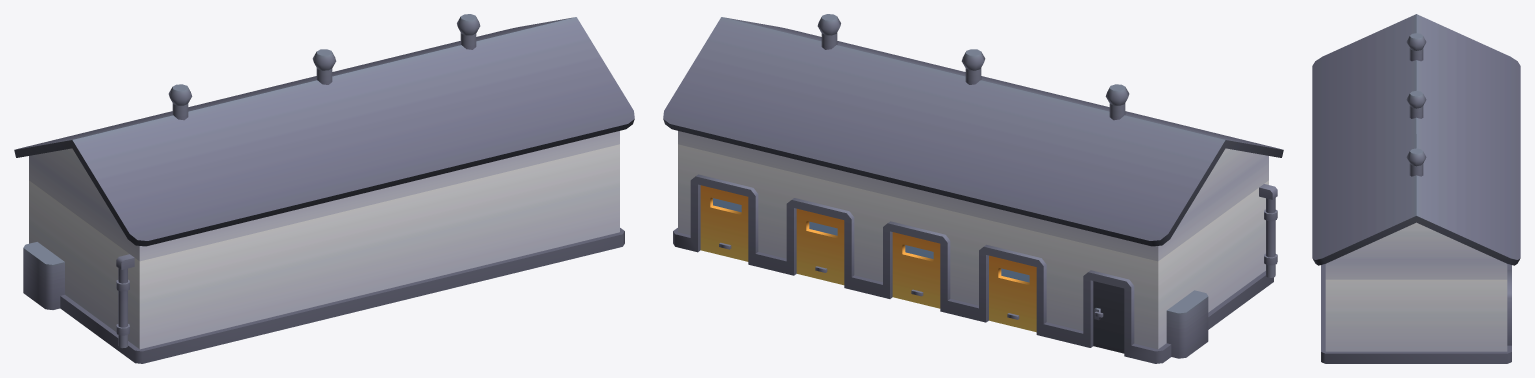
Rendered from k-city-kit-industrial-building-s.glb.
3 renders of one model, left to right at view 1: azimuth 30°, elevation 25°; view 2: azimuth 150°, elevation 25°; view 3: azimuth 270°, elevation 25°, orthographic. The views are drawn at different scales.
Visible parts, largest first — view 1: building-s; view 2: building-s; view 3: building-s.
Boxes of the visible parts, x1,y1,x2,y2 form: building-s: (14, 14, 634, 363); building-s: (663, 14, 1283, 363); building-s: (1312, 14, 1520, 363).
Bounding box in the file's own units: 2.12 × 0.8368 × 0.9162.
1 material, 1 textured.
